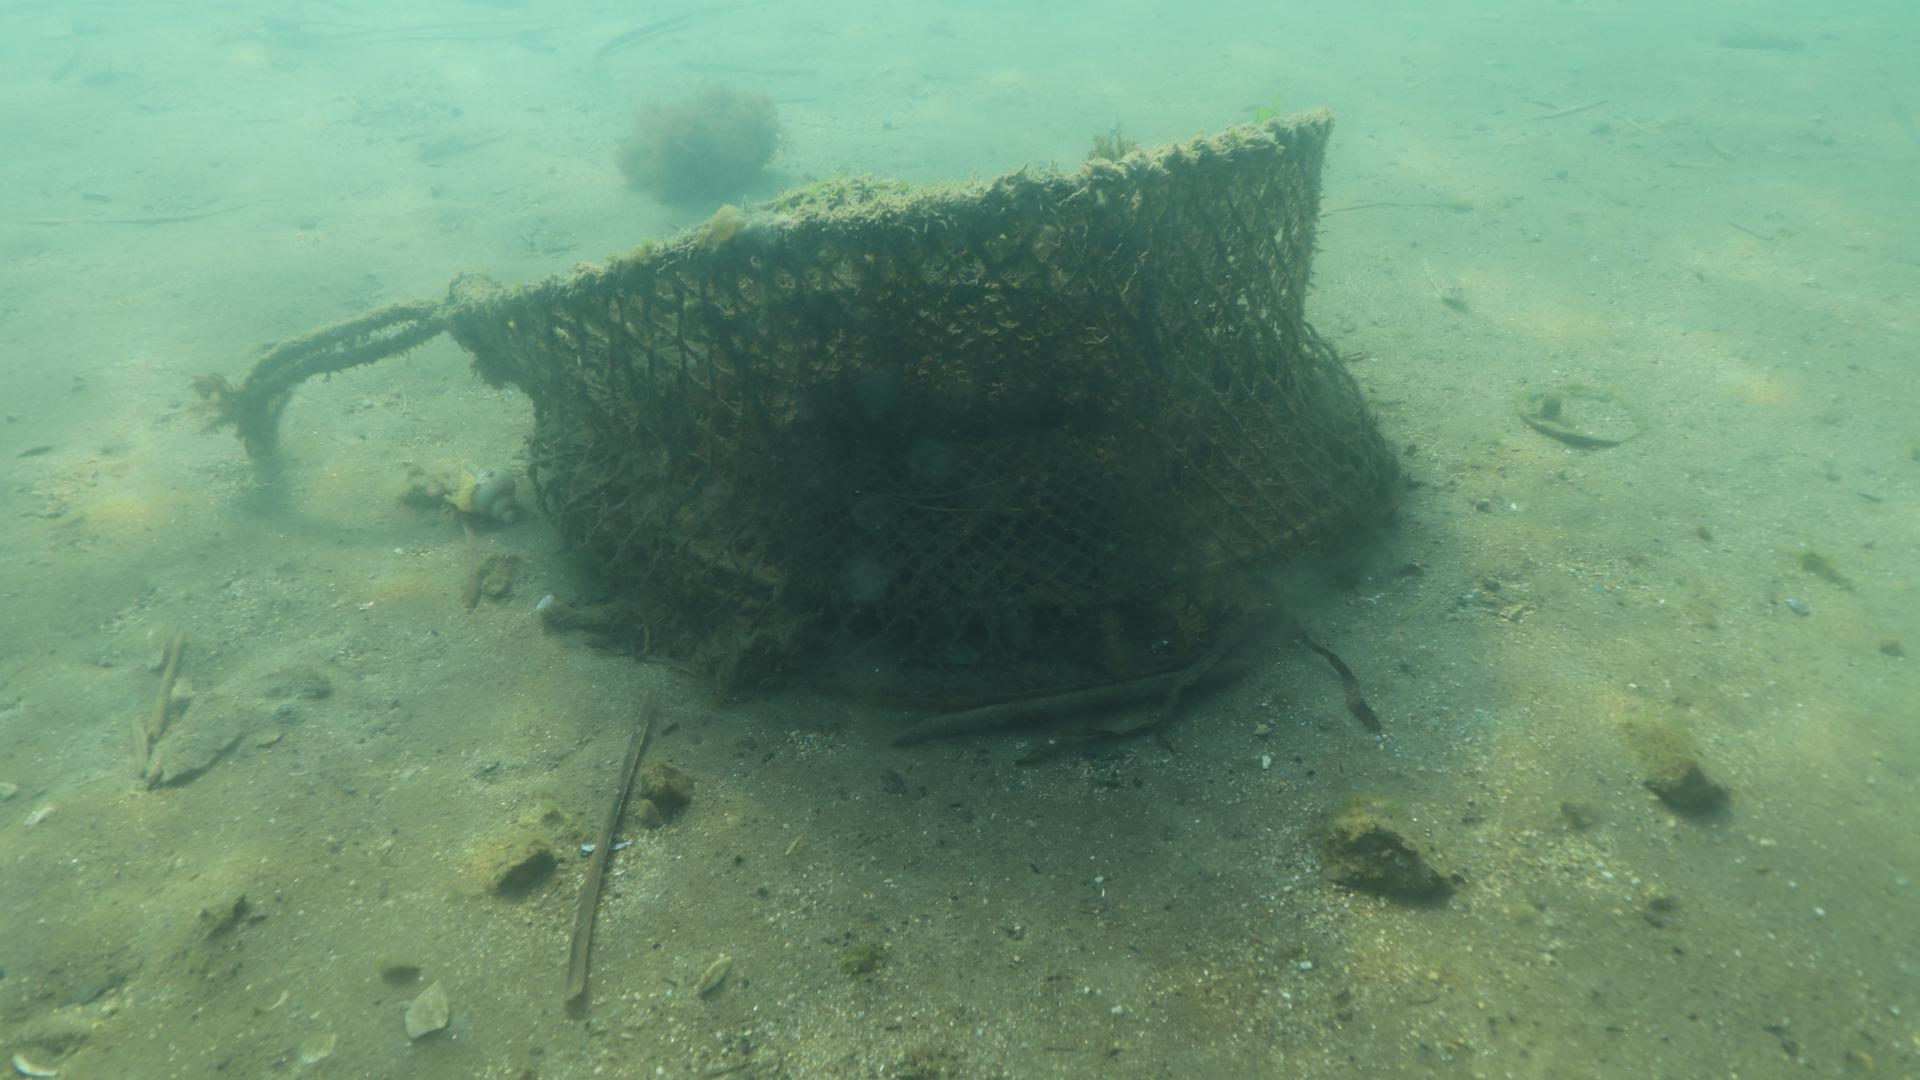bundle of ropes: (239, 297, 447, 454)
circular fish trap: (434, 94, 1399, 674)
